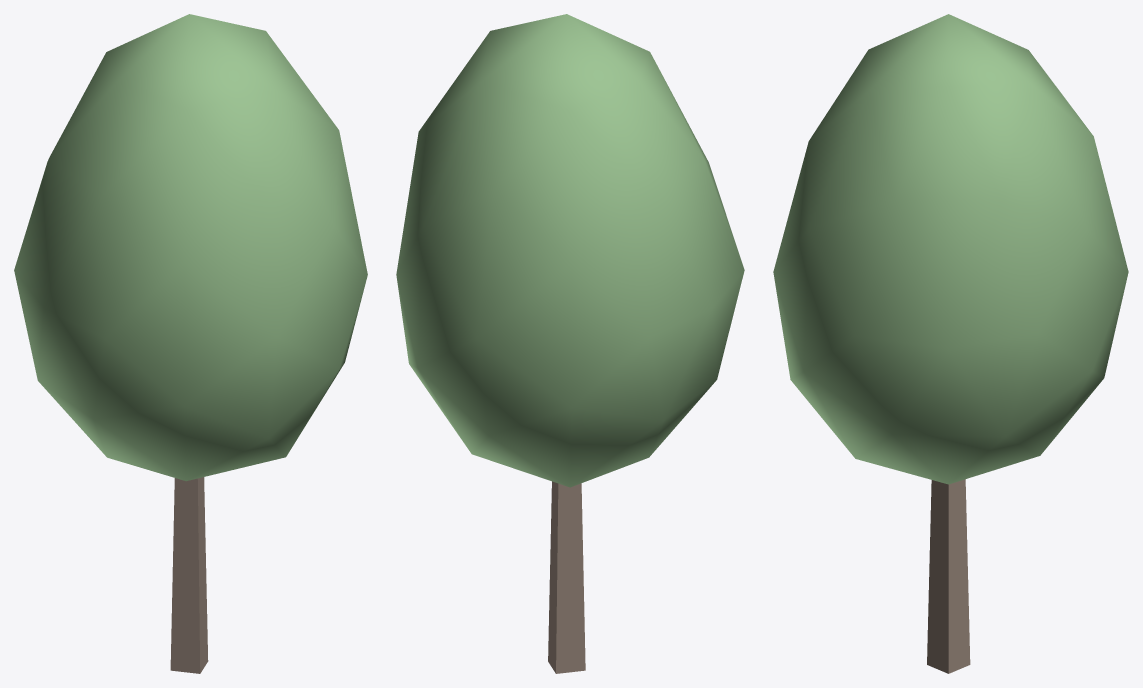
The model's file is tree-broadleaf-a-far.glb.
3 views of the same model, side by side, from view 1: azimuth 30°, elevation 25°; view 2: azimuth 150°, elevation 25°; view 3: azimuth 270°, elevation 25° (orthographic).
Visible parts, largest first — view 1: tree-broadleaf-a-far; view 2: tree-broadleaf-a-far; view 3: tree-broadleaf-a-far.
Part boxes in pixels (box(x1,y1,x2,y2)): tree-broadleaf-a-far: box(14, 14, 367, 673); tree-broadleaf-a-far: box(396, 14, 744, 673); tree-broadleaf-a-far: box(773, 14, 1128, 673).
Size of the model in its own units: 0.4853 by 0.998 by 0.4938.
